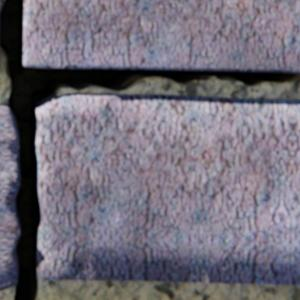brick: (22, 0, 299, 72)
broken_brick: (36, 93, 299, 283), (0, 104, 20, 288)
crack: (0, 0, 299, 299)
